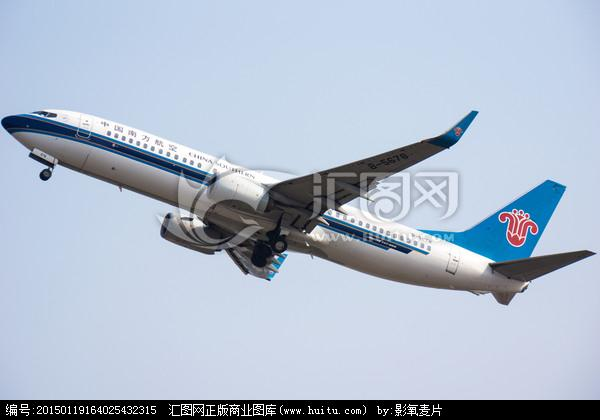airplane: (1, 103, 596, 313)
